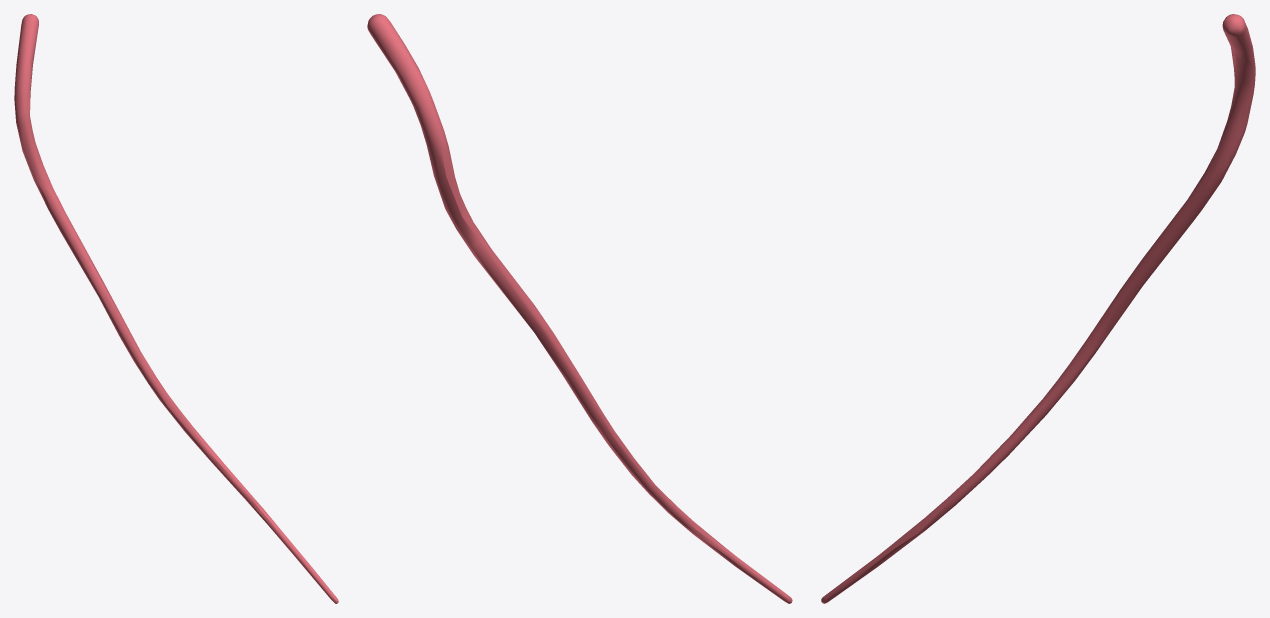
The model's file is fma85103_fj2329.glb.
3 renders of one model, left to right at view 1: azimuth 90°, elevation 25°; view 2: azimuth 150°, elevation 25°; view 3: azimuth 270°, elevation 25°, orthographic. The views are drawn at different scales.
Visible parts, largest first — view 1: FMA85103_FJ2329; view 2: FMA85103_FJ2329; view 3: FMA85103_FJ2329.
Boxes of the visible parts, x1,y1,x2,y2 form: FMA85103_FJ2329: [14, 14, 338, 603]; FMA85103_FJ2329: [367, 14, 792, 603]; FMA85103_FJ2329: [821, 14, 1255, 603].
Size of the model in its own units: 0.0157 by 0.0474 by 0.0271.
